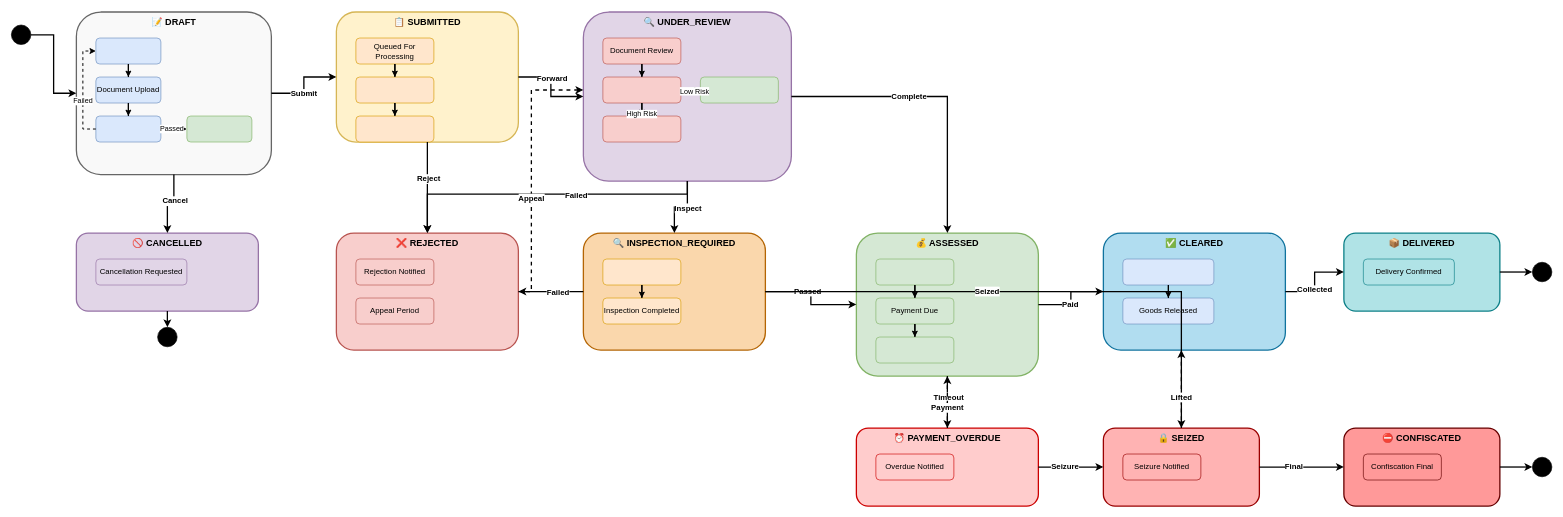
The diagram is 1563 pixels wide and 517 high, and some of its shapes have lost their labels. The centre of each missing label's shape, as x and y in pixels:
"Automatically Processed" goes at (x=739, y=89).
"Clearance Certificate Issued" goes at (x=1168, y=271).
"Data Entry" goes at (x=128, y=50).
"Duty Calculation" goes at (x=914, y=271).
"Inspection Scheduled" goes at (x=641, y=271).
"Manual Review" goes at (x=641, y=128).
"Payment Received" goes at (x=914, y=349).
"Pre Validation" goes at (x=394, y=89).
"Processed Locally" goes at (x=394, y=128).
"Ready To Submit" goes at (x=219, y=128).
"Risk Assessment" goes at (x=641, y=89).
"Validation" goes at (x=128, y=128).
